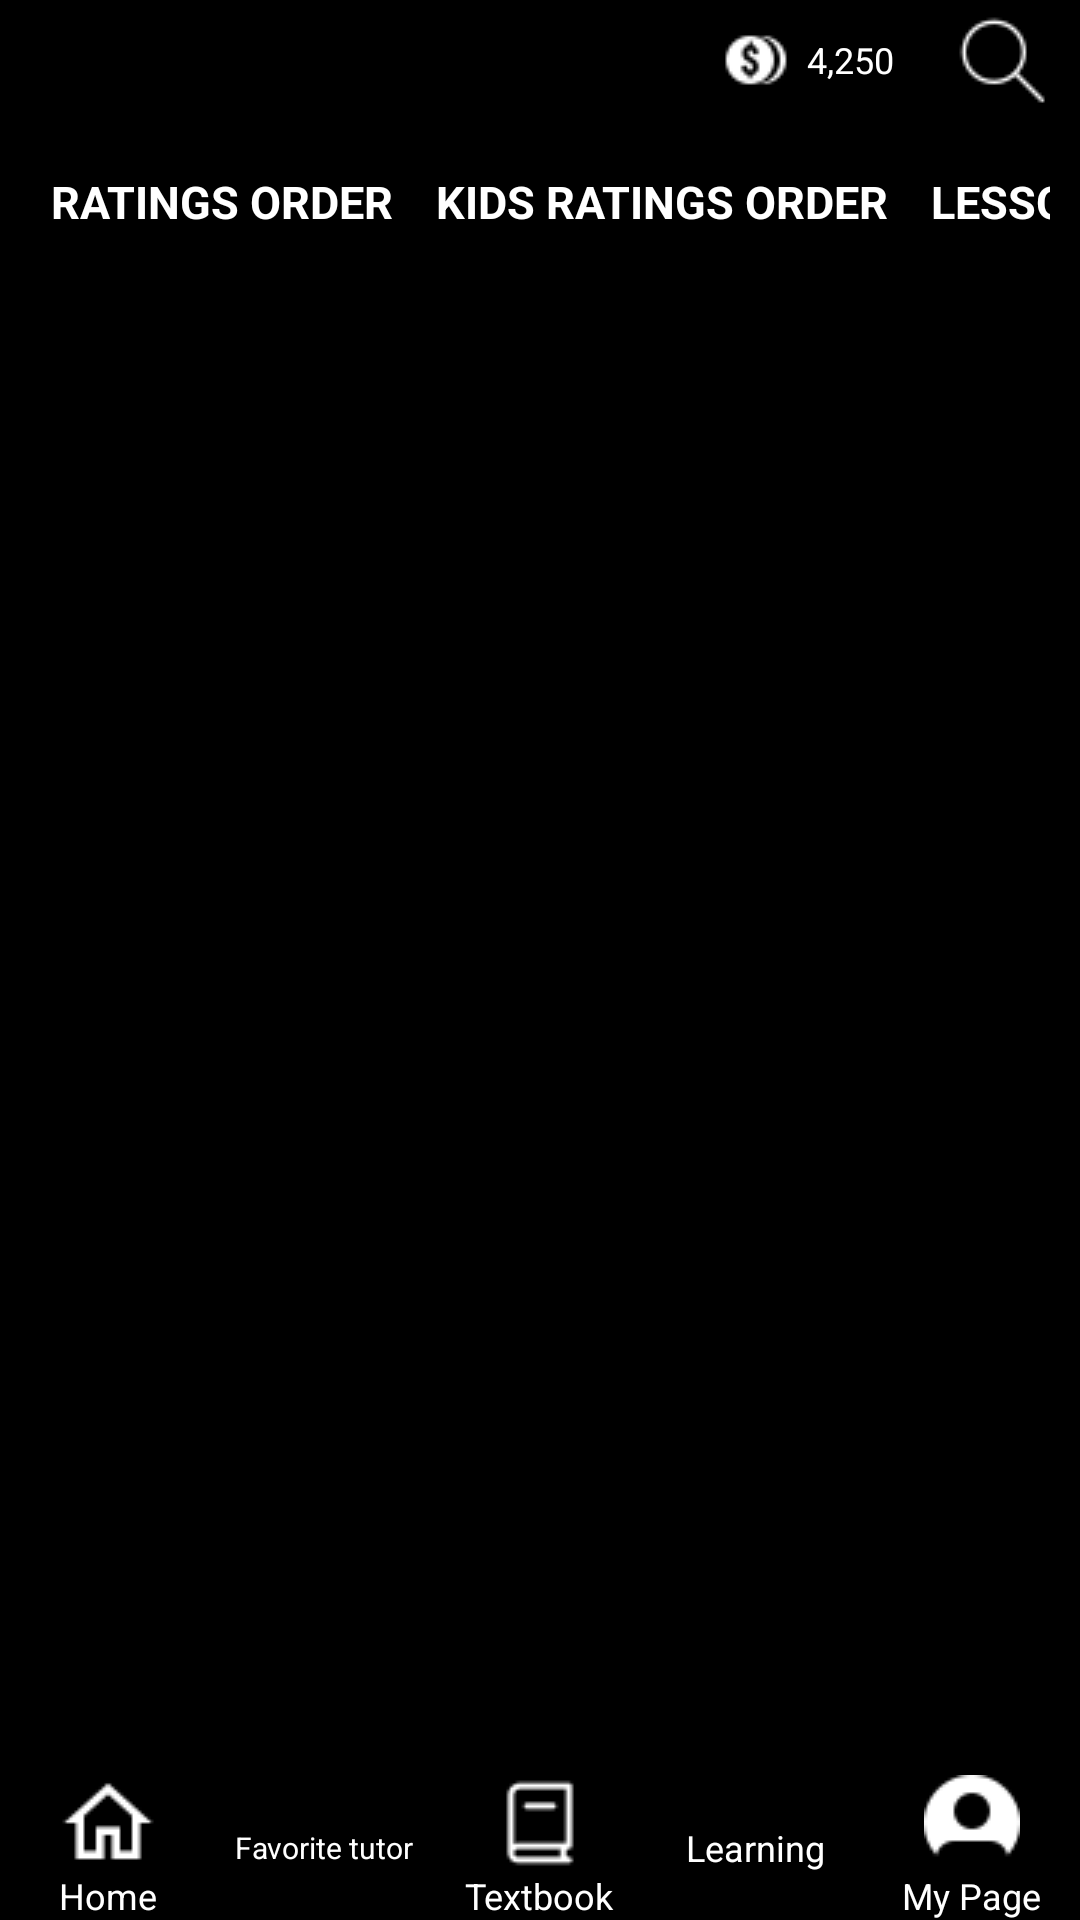

Where icons sit on this 1080×1920 app screen, as (x1=x1, y1=y1, x2=x2, y2=y2):
coins: (x1=725, y1=35, x2=787, y2=85)
search: (x1=959, y1=17, x2=1045, y2=103)
